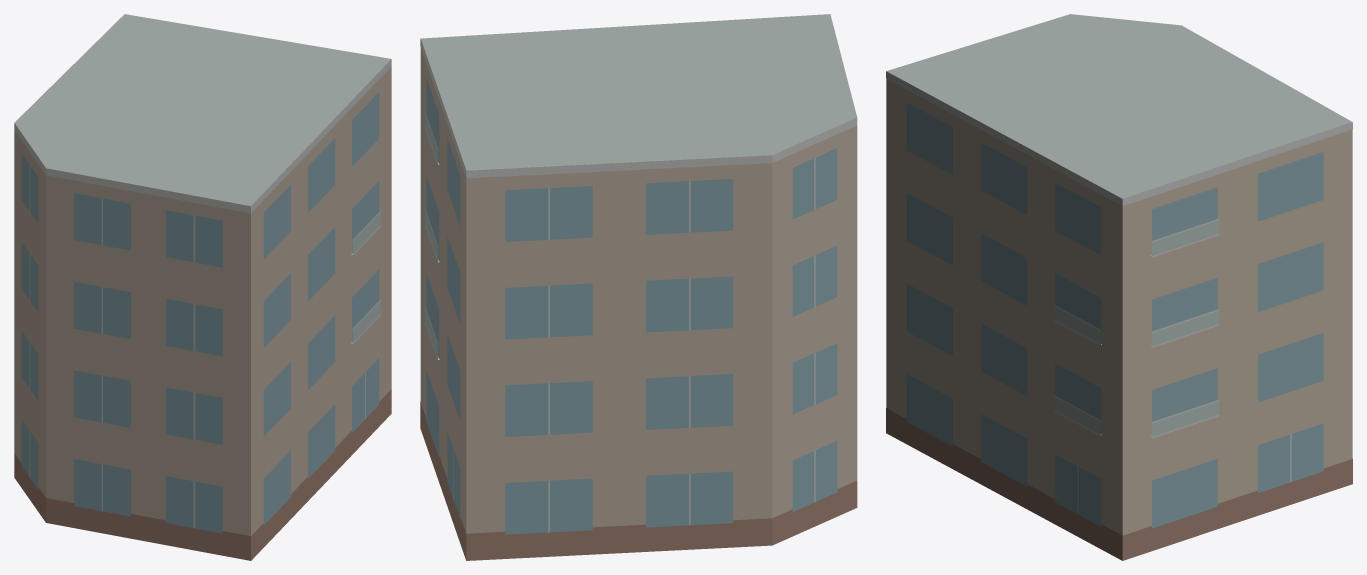
Rendered from survey-upis-32778293.glb.
3 views of the same model, side by side, from view 1: azimuth 30°, elevation 25°; view 2: azimuth 150°, elevation 25°; view 3: azimuth 270°, elevation 25° (orthographic). The views are drawn at different scales.
Parts seen in each view (by area): view 1: survey-upis-32778293.tmp; view 2: survey-upis-32778293.tmp; view 3: survey-upis-32778293.tmp.
Boxes of the visible parts, x1,y1,x2,y2 form: survey-upis-32778293.tmp: (14, 14, 391, 560); survey-upis-32778293.tmp: (420, 14, 857, 560); survey-upis-32778293.tmp: (886, 14, 1352, 560).
Bounding box in the file's own units: 13.37 × 12.2 × 14.26.
